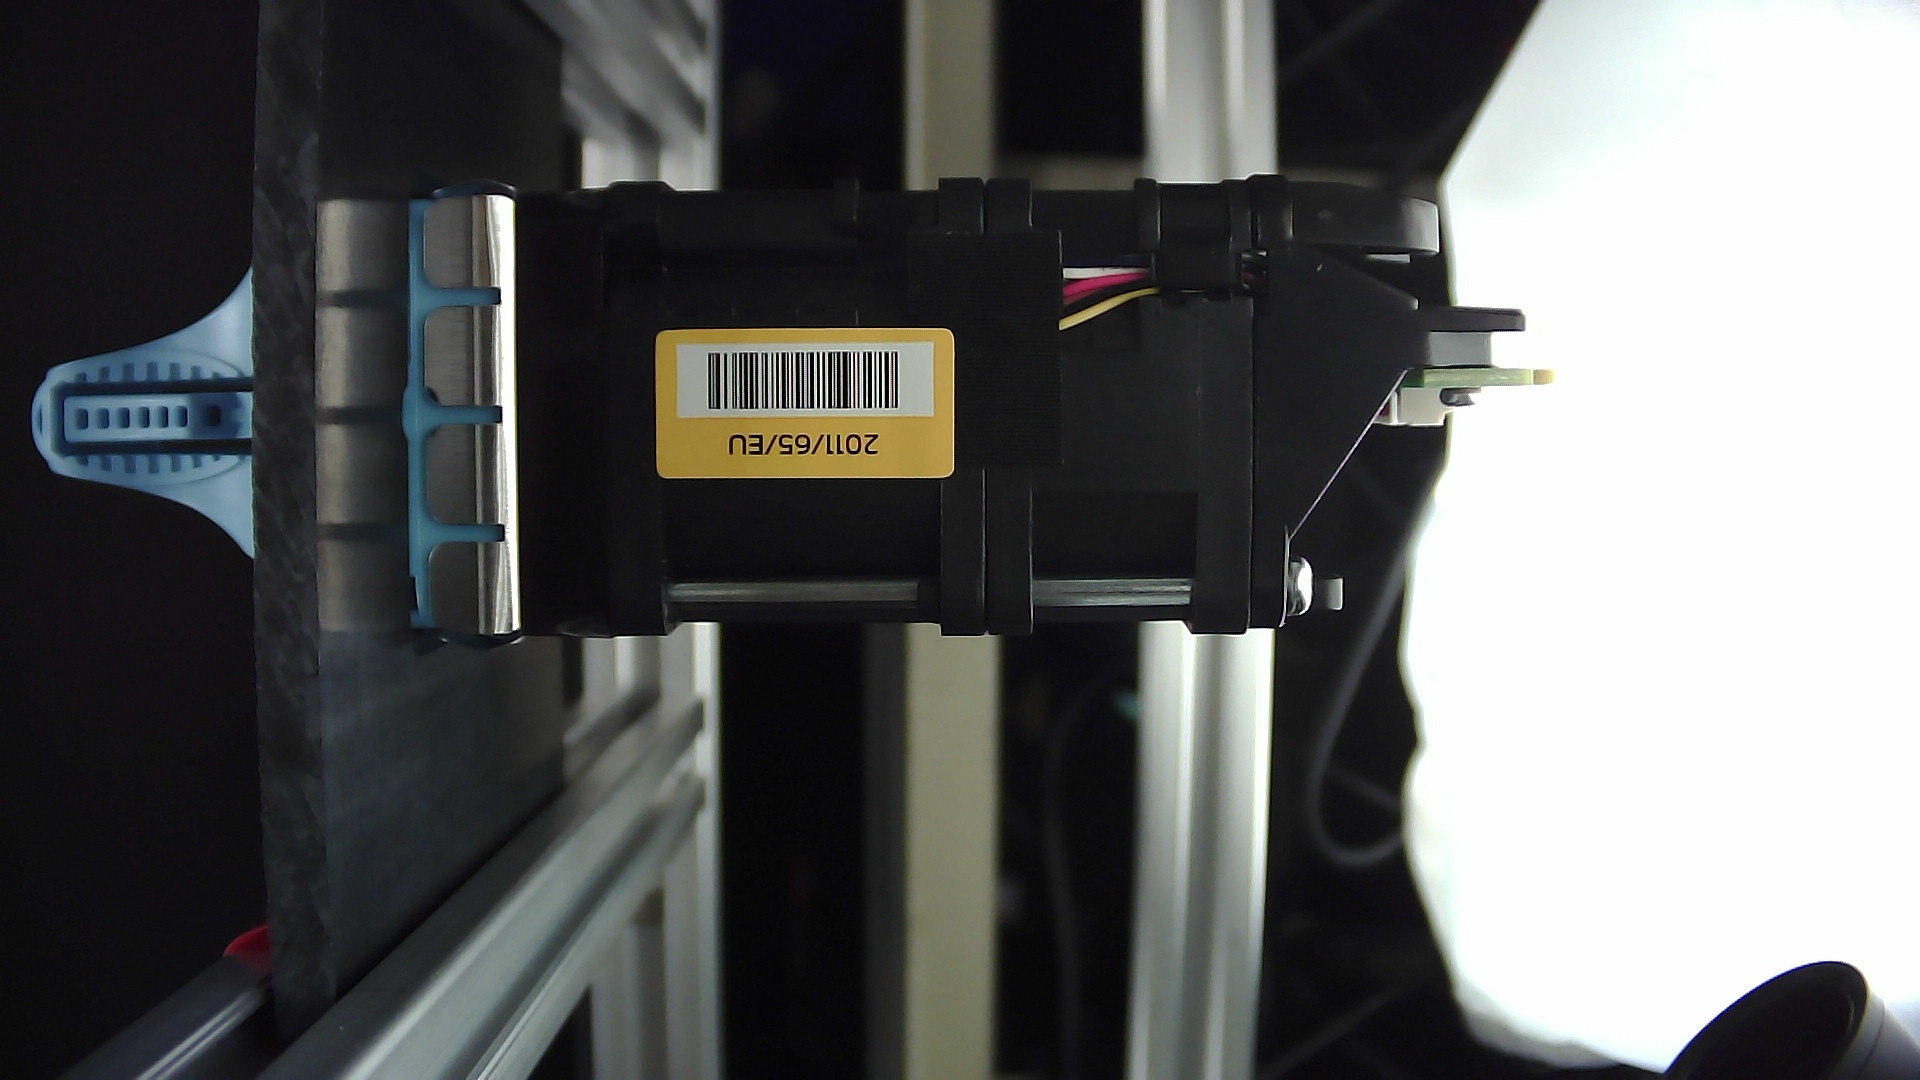1_0: (367, 135, 1584, 667)
